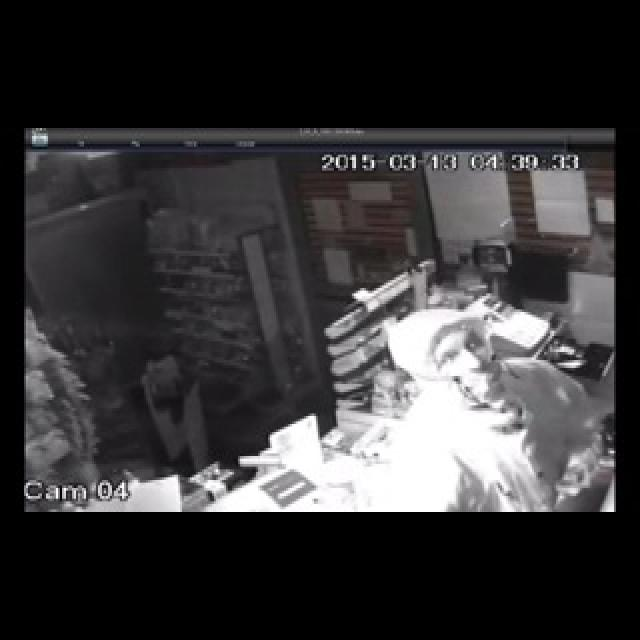thief: (380, 283, 604, 508)
